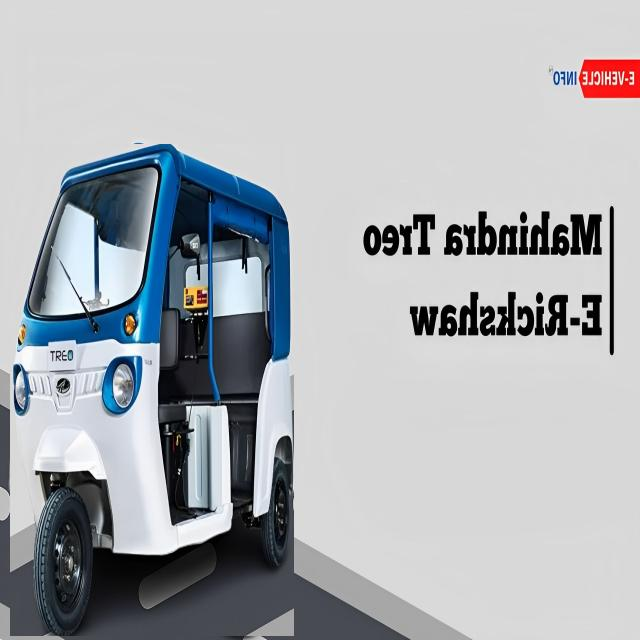autorickshaw: (10, 144, 294, 636)
